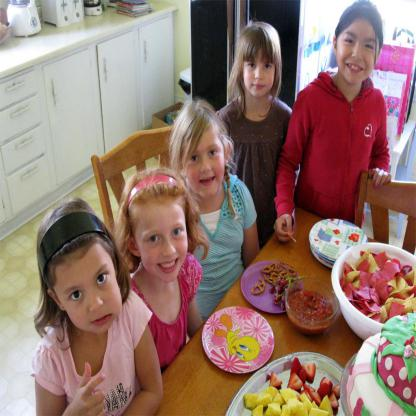face: (59, 245, 122, 335), (137, 204, 190, 280), (182, 127, 226, 196), (339, 20, 380, 84), (246, 44, 274, 98)
